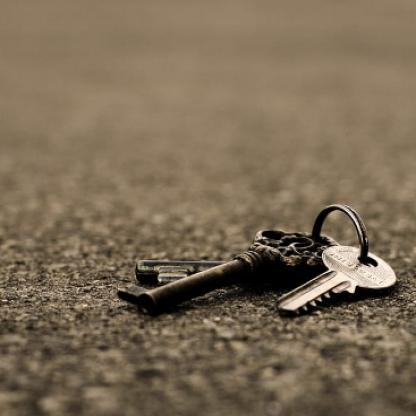keys: (114, 226, 402, 322)
